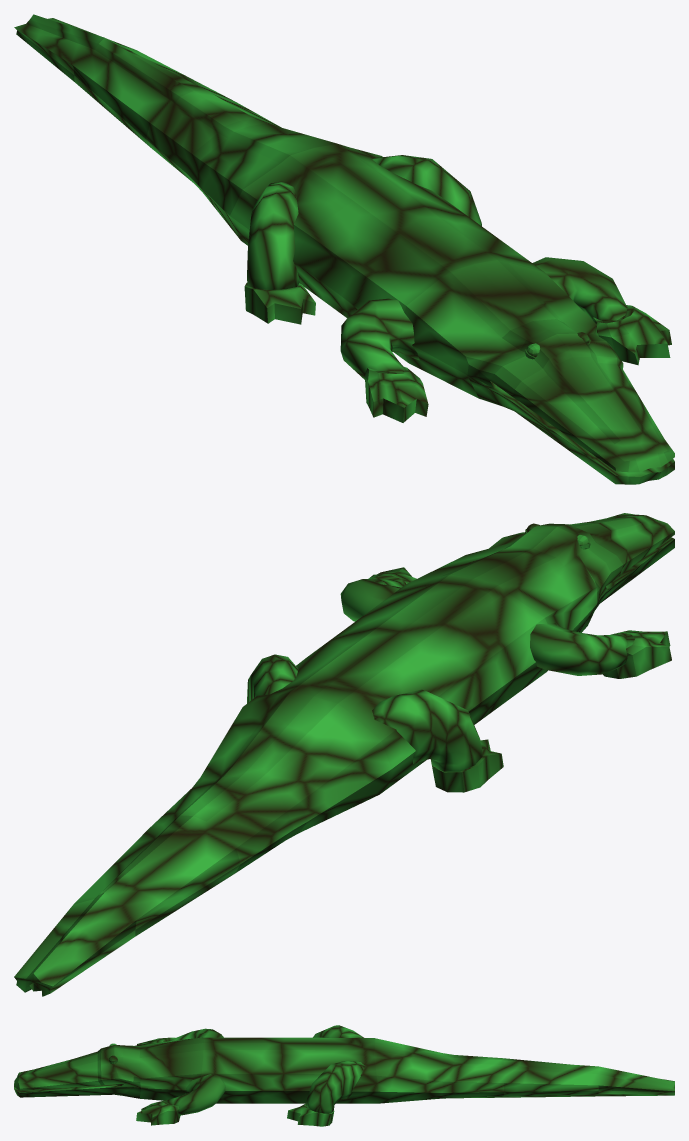
File: SM_Crocodile_01(1).fbx
The picture shows the model from 3 angles, top to bottom: view 1: azimuth 30°, elevation 25°; view 2: azimuth 150°, elevation 25°; view 3: azimuth 270°, elevation 25°; orthographic projection. The views are drawn at different scales.
Parts seen in each view (by area): view 1: Cube.041; view 2: Cube.041; view 3: Cube.041.
Part boxes in pixels (x1=…): Cube.041: x1=14, y1=14, x2=674, y2=484; Cube.041: x1=14, y1=513, x2=674, y2=996; Cube.041: x1=14, y1=1025, x2=674, y2=1126.
Bounding box in the file's own units: 549 × 181 × 1966.
Materials: 1 (1 with a texture image).
